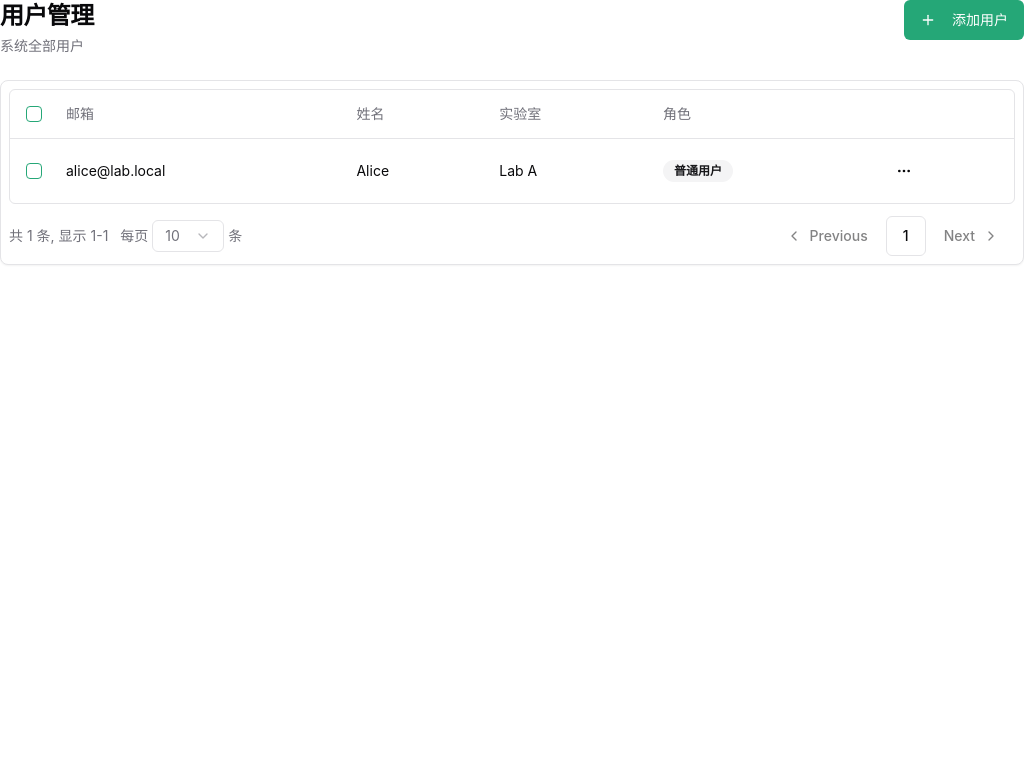
Scenario: /admin/users page › 添加用户 → POST /users + body 含 email/password/roles + dialog 关闭
expect the text "Alice" is shown: met, box [340,138,483,202]
Click the button with test id "admin-users-create-btn". click: click(964, 20)
box: [904,0,1023,40]
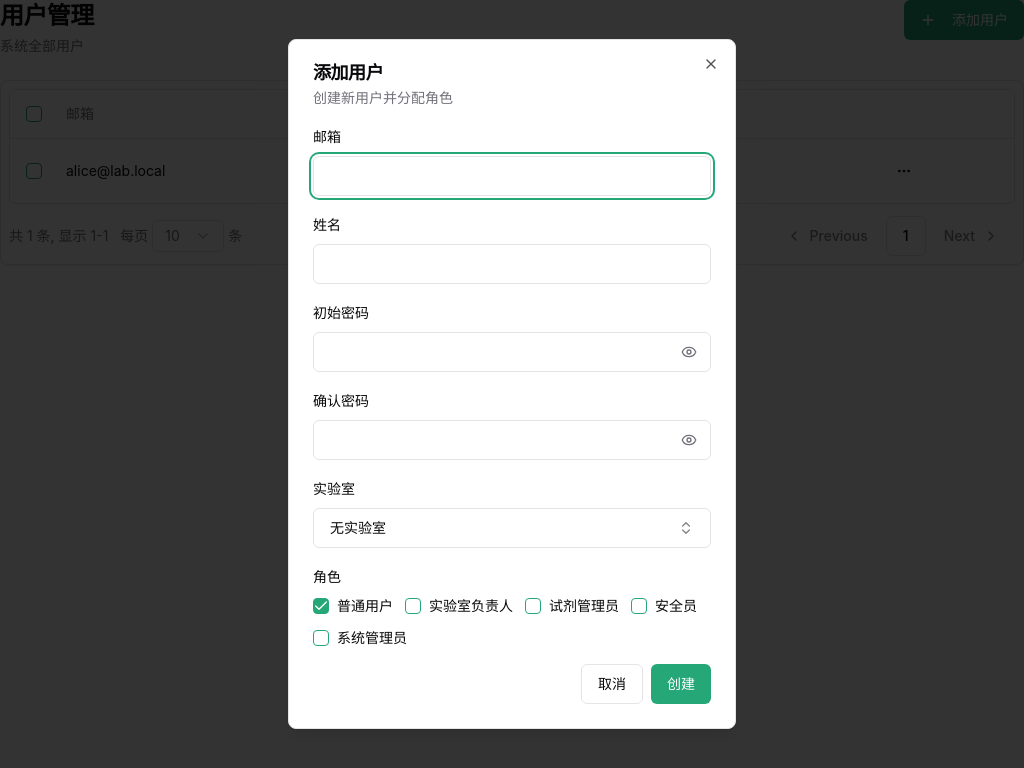
Type "bob@lab.local" into the field with test id "admin-users-create-email". click: (512, 176)
box: [313,156,711,196]
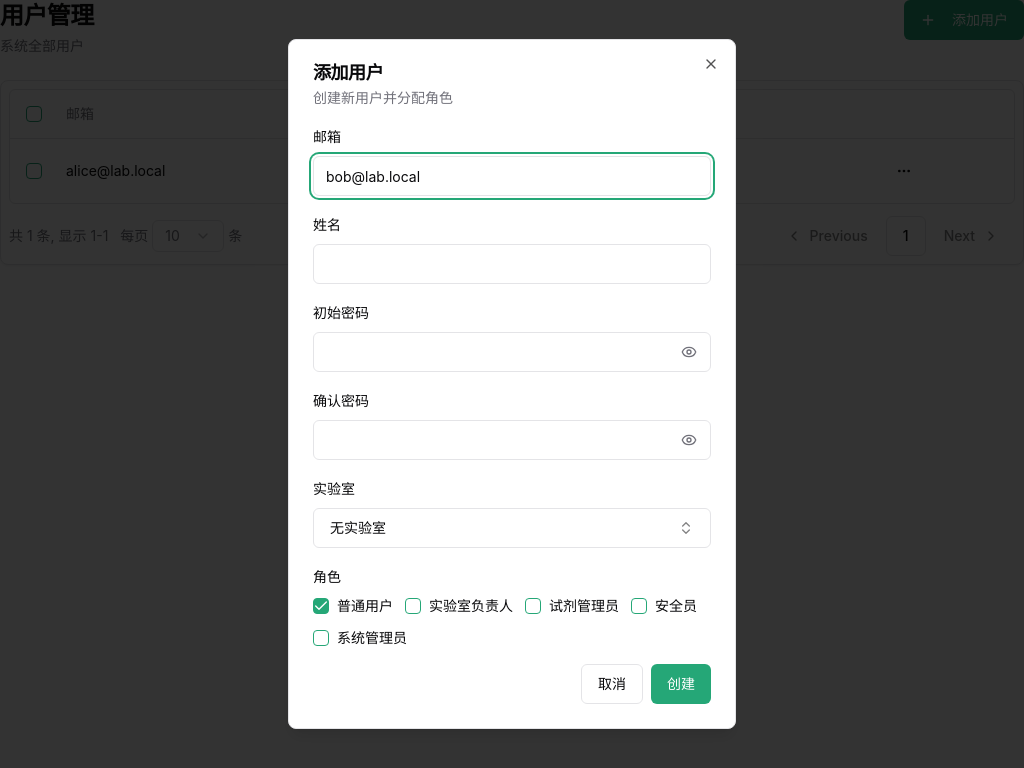
Type "Bob" into the field with test id "admin-users-create-name". click: (512, 264)
box: [313,244,711,284]
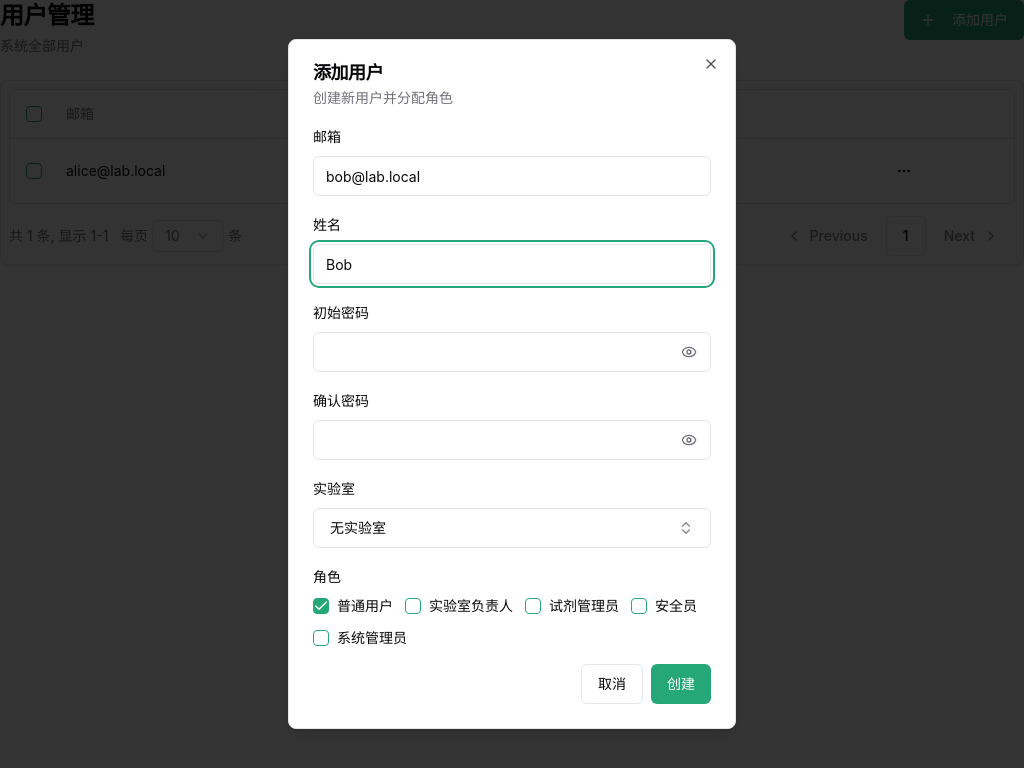
Type "Bob12345" into the password field with test id "admin-users-create-password". click: (512, 352)
box: [313,332,711,372]
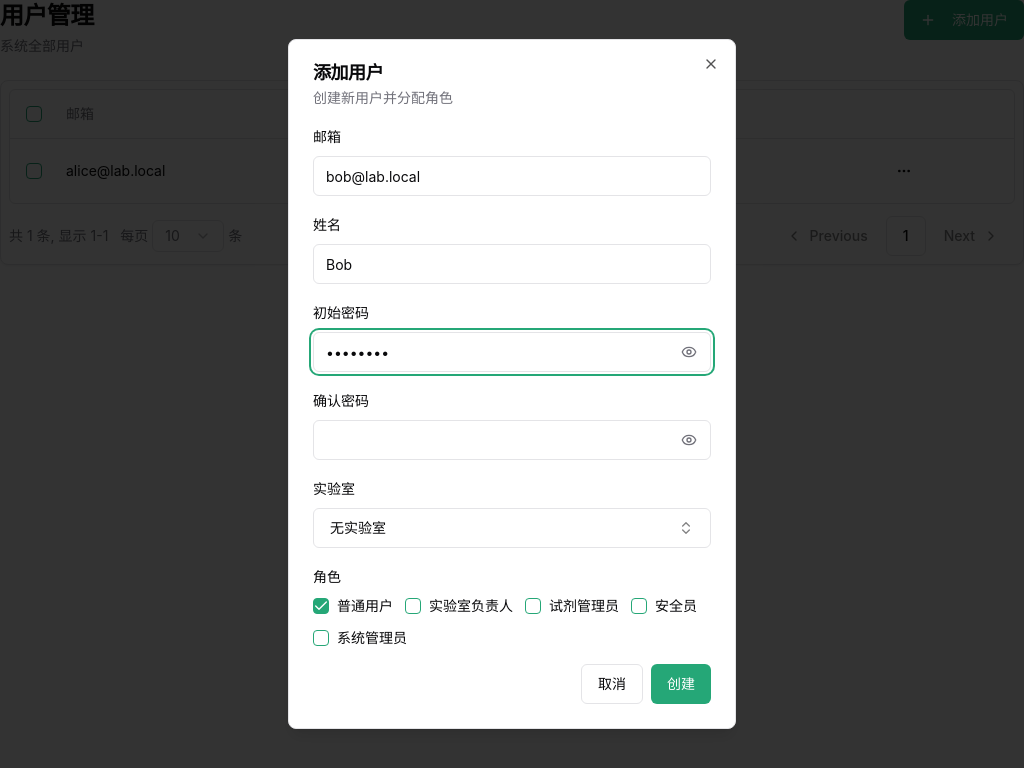
Type "Bob12345" into the password field with test id "admin-users-create-password-confirm". click: (512, 440)
box: [313,420,711,460]
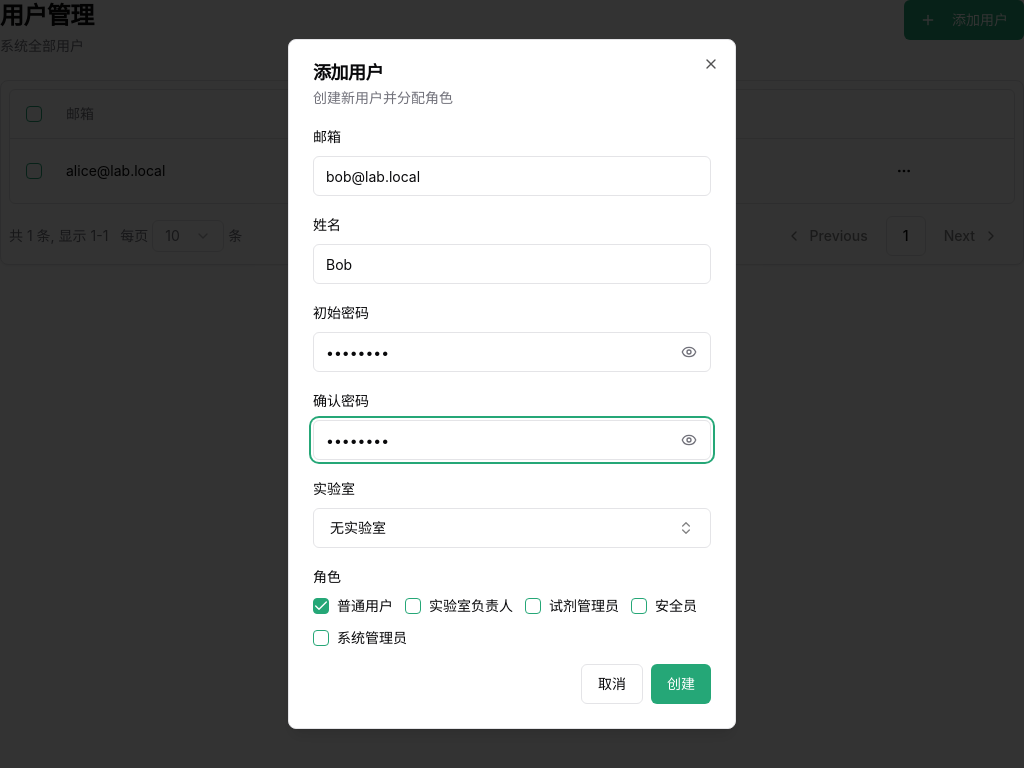
Click the button with test id "admin-users-create-submit". click: click(681, 684)
box: [651,664,711,704]
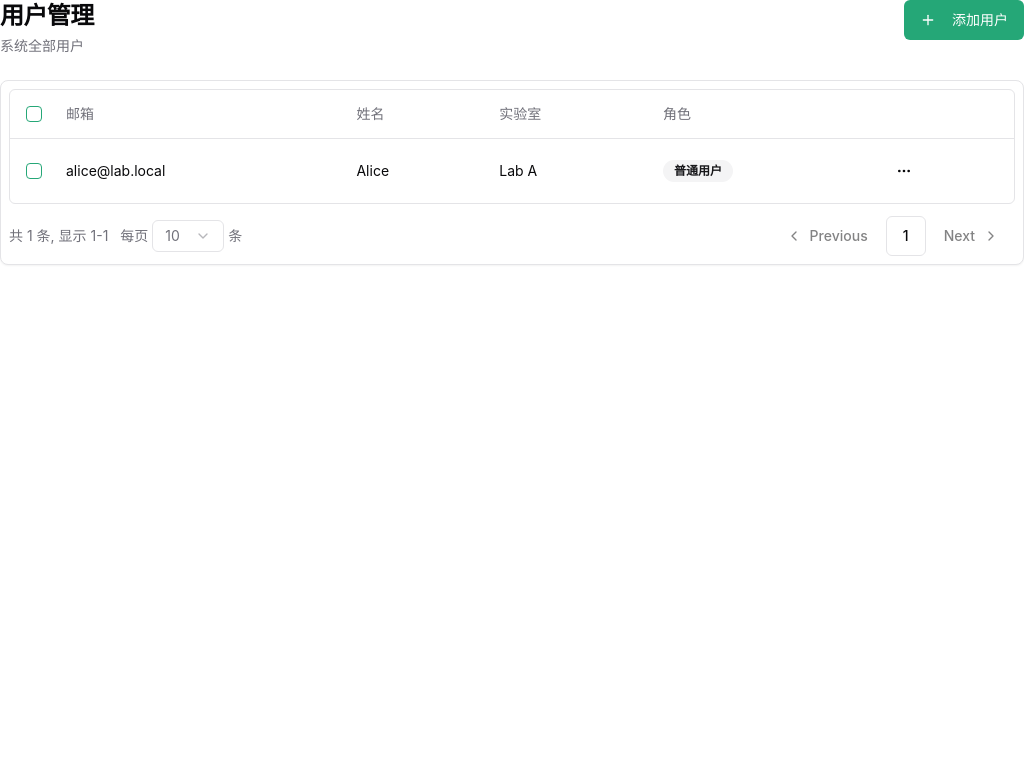
expect the field with test id "admin-users-create-email" is gone: met
